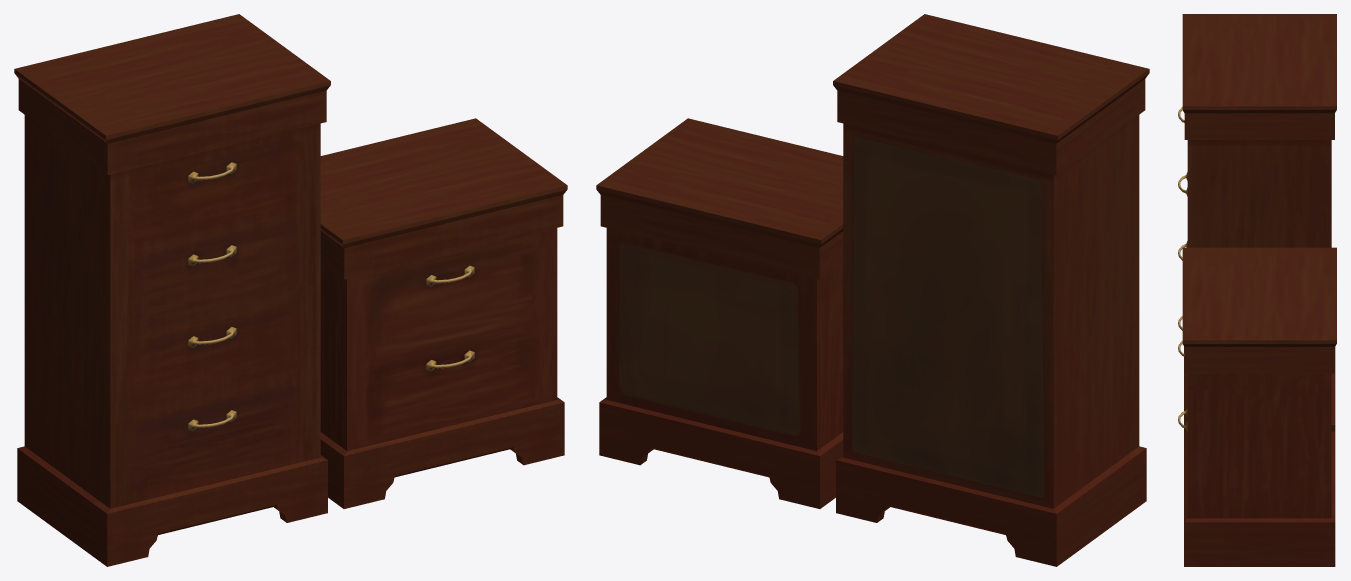
Rendered from headboard_1.fbx.
3 renders of one model, left to right at view 1: azimuth 30°, elevation 25°; view 2: azimuth 150°, elevation 25°; view 3: azimuth 270°, elevation 25°, orthographic. The views are drawn at different scales.
Parts seen in each view (by area): view 1: Cube.002, Cube.000; view 2: Cube.002, Cube.000; view 3: Cube.000, Cube.002.
Part boxes in pixels (x1,y1,x2,y2): Cube.002: (14, 14, 330, 566); Cube.000: (320, 118, 567, 508); Cube.002: (833, 14, 1149, 566); Cube.000: (596, 118, 843, 508); Cube.000: (1178, 247, 1336, 566); Cube.002: (1178, 14, 1336, 431).
Size of the model in its own units: 336 by 300 by 119.
